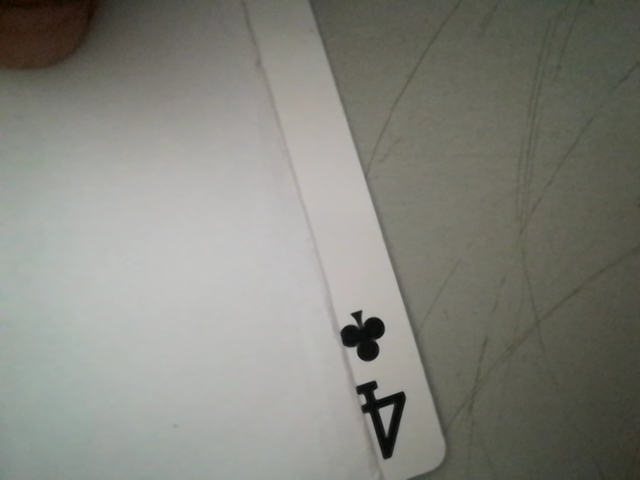mh 4: (327, 298, 426, 473)
